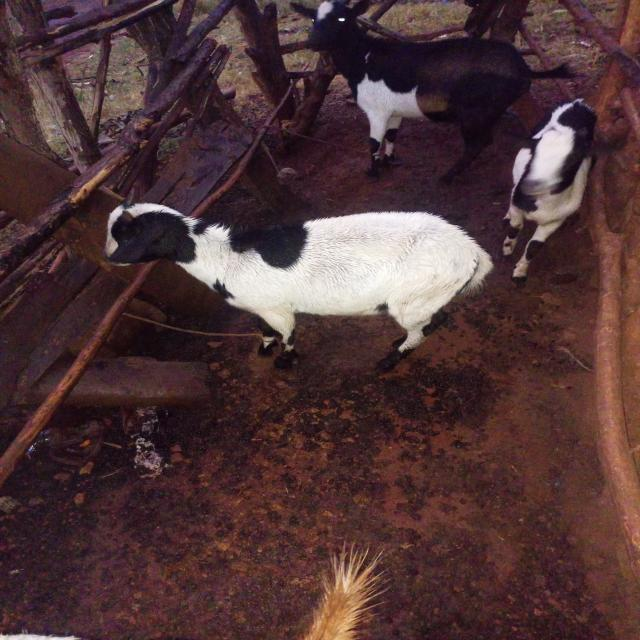goat: (58, 142, 531, 425)
